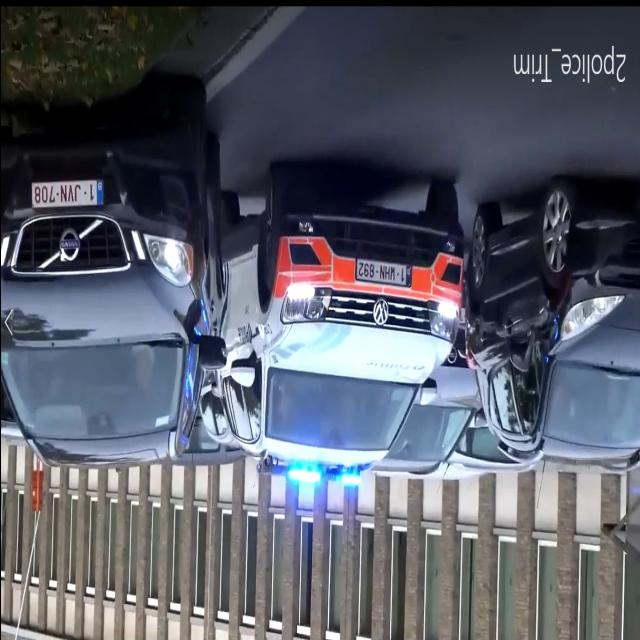emergency: (206, 164, 466, 492)
